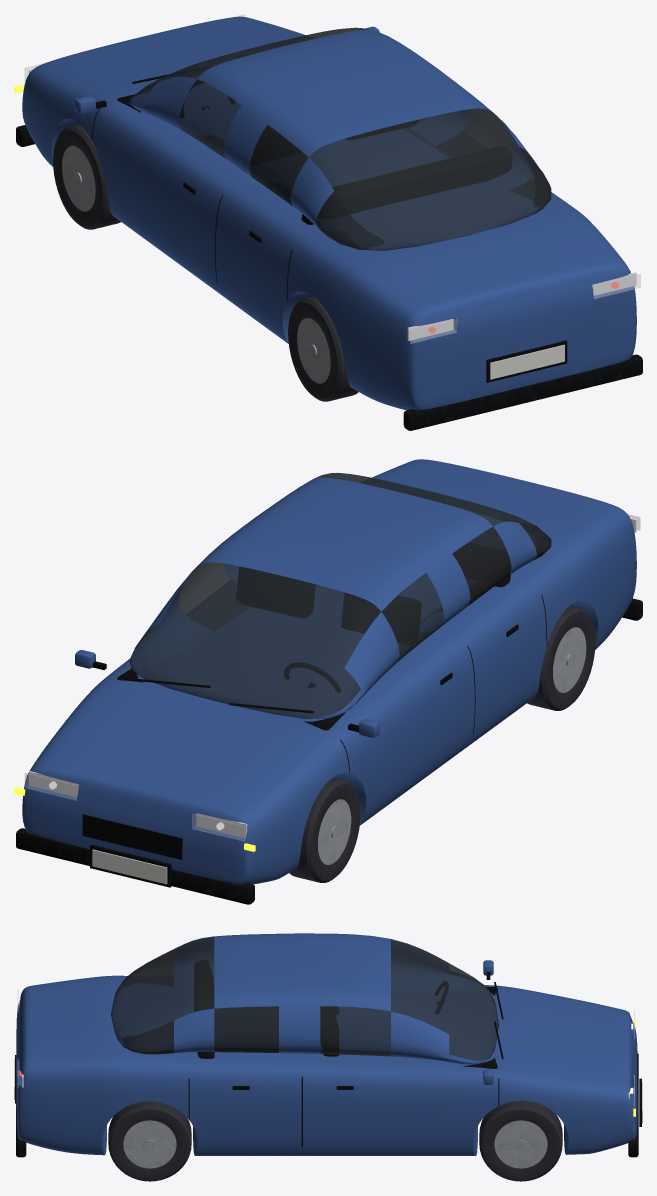
File: saloon_blue.gltf
3 views of the same model, one above another, from view 1: azimuth 30°, elevation 25°; view 2: azimuth 150°, elevation 25°; view 3: azimuth 270°, elevation 25° (orthographic). The views are drawn at different scales.
Parts seen in each view (by area): view 1: saloon_blue; view 2: saloon_blue; view 3: saloon_blue.
Boxes of the visible parts, x1,y1,x2,y2 form: saloon_blue: (14, 14, 642, 430); saloon_blue: (14, 459, 642, 904); saloon_blue: (14, 933, 642, 1181).
Size of the model in its own units: 2.11 by 1.46 by 4.83.
Materials: 17 (8 with a texture image).
